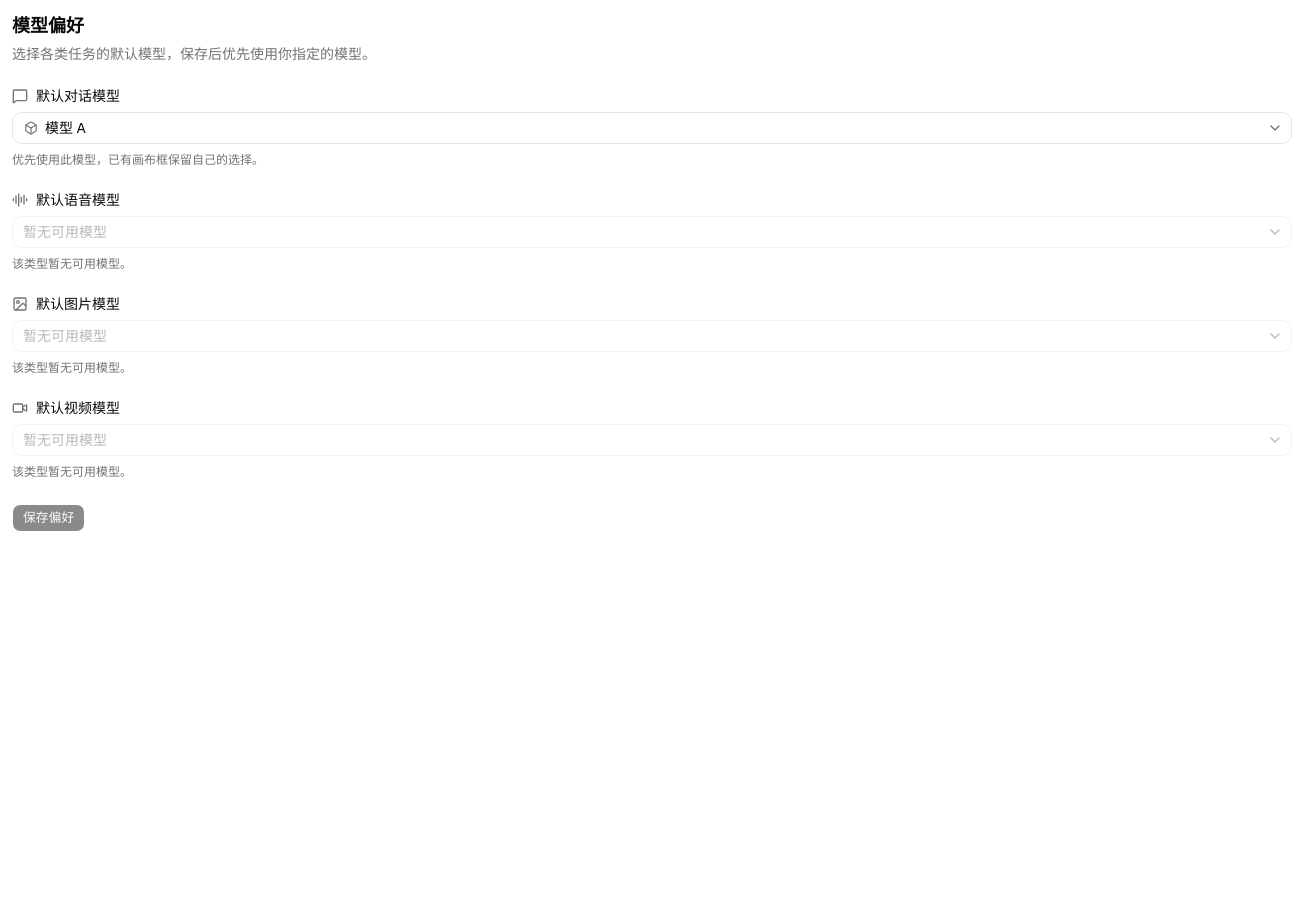
Test: keeps the agent model draft after a failed save and notifies again on retry
Click the dropdown named "默认对话模型": (65, 128) left=12, top=112, right=1292, bottom=144
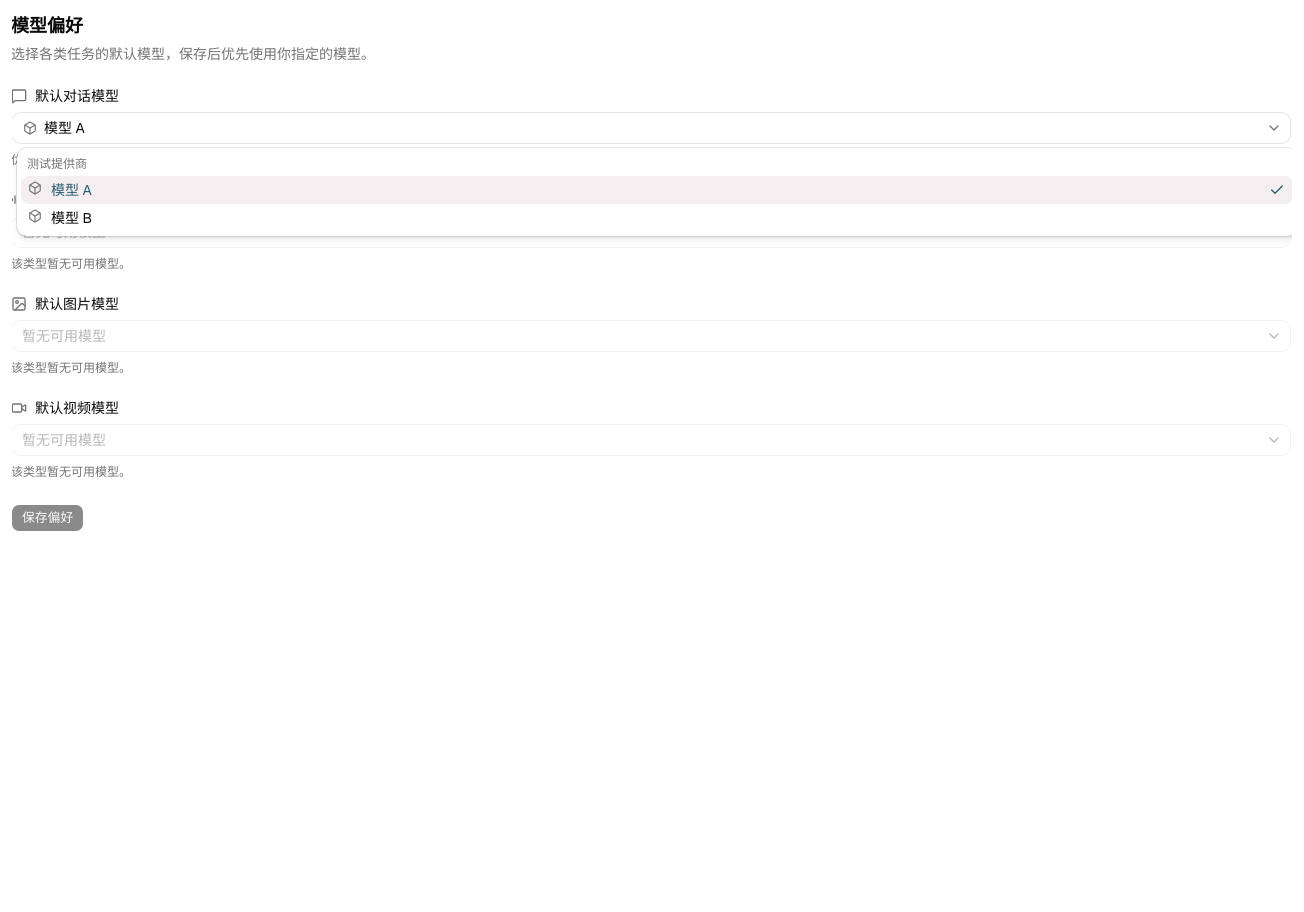
Click the option "模型 B": (60, 218) left=28, top=209, right=92, bottom=227
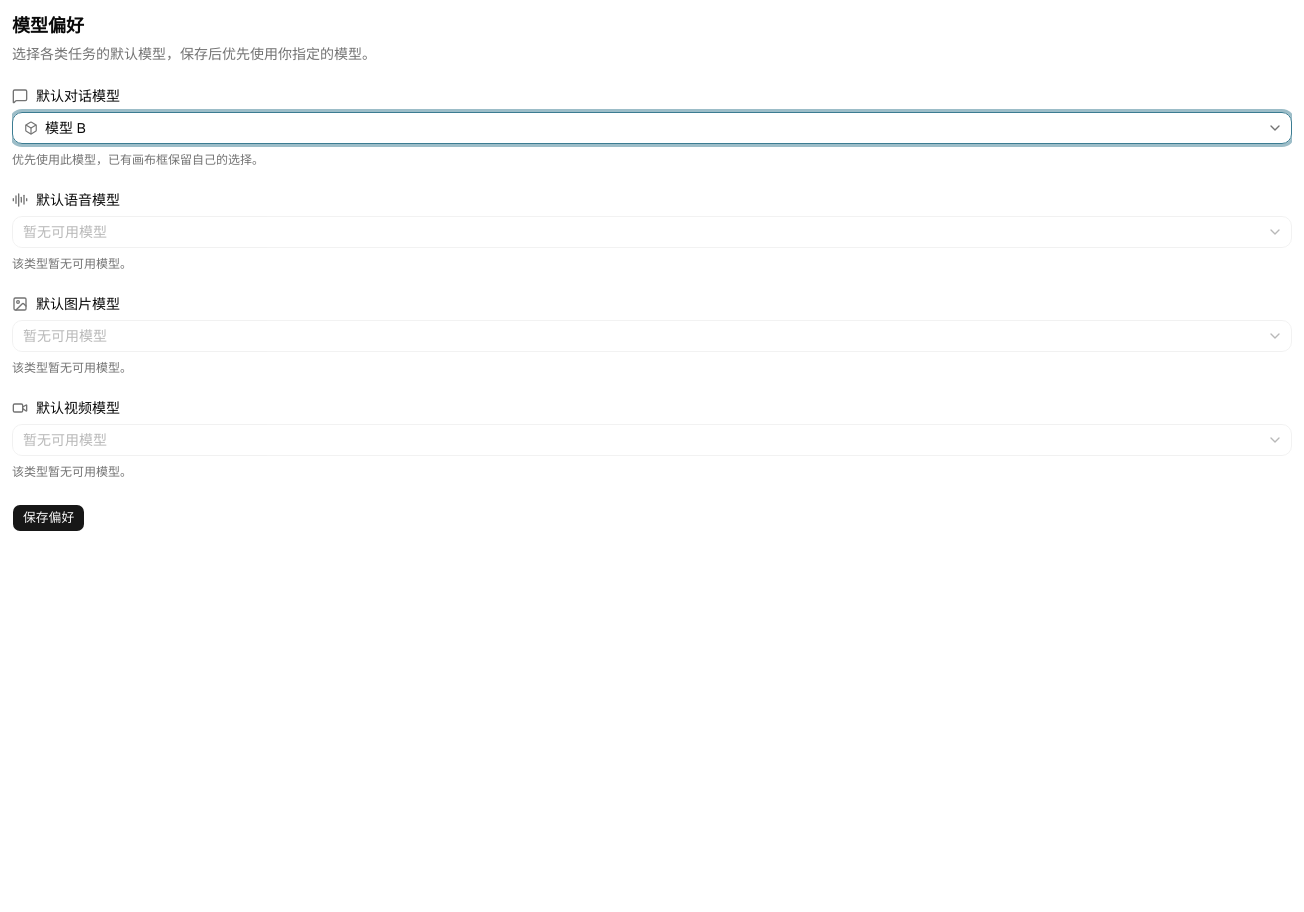
Click the button "保存偏好": (49, 518) left=12, top=504, right=85, bottom=532
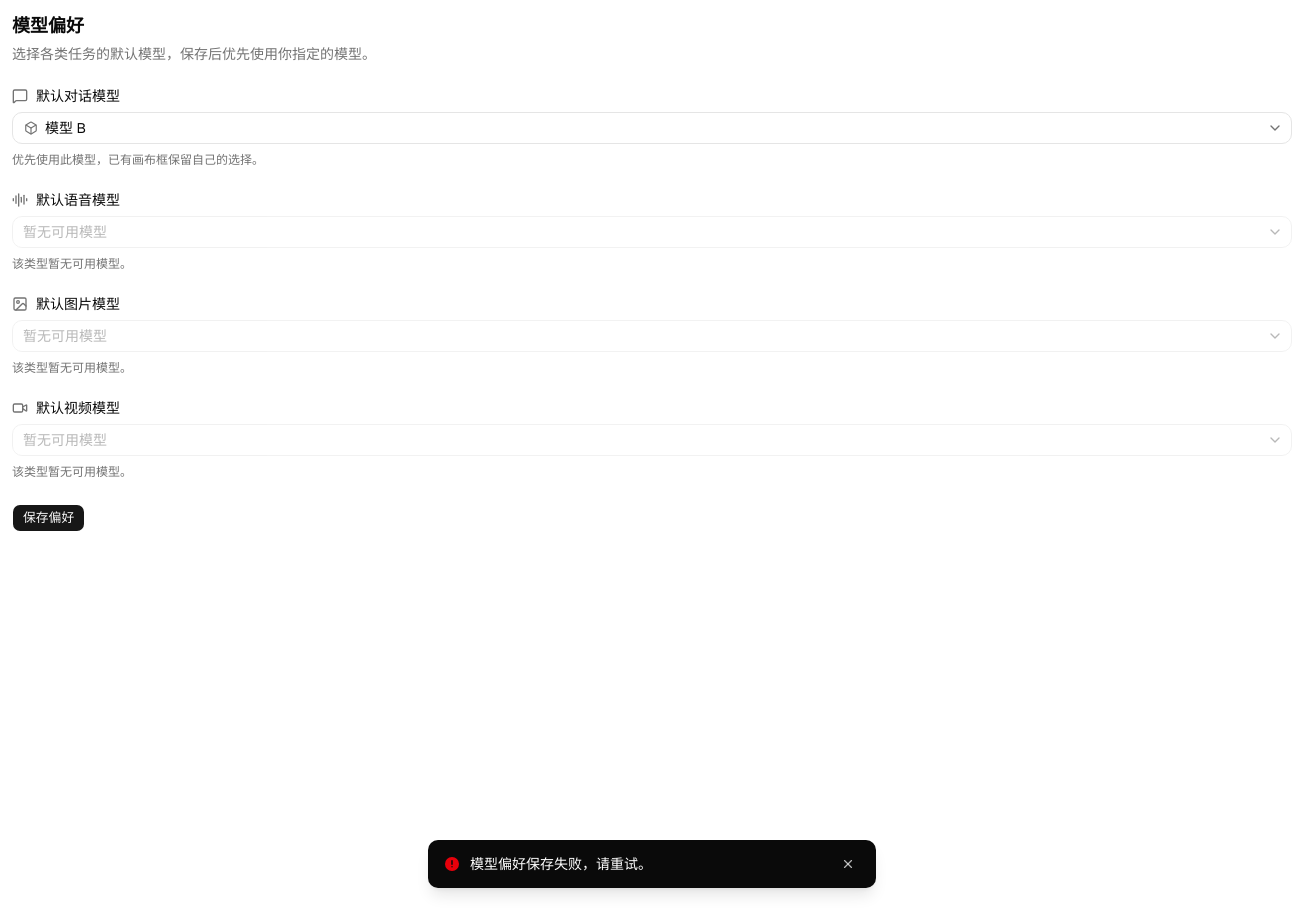
Expected: the dropdown named "默认对话模型" shows "模型 B", left=12, top=112, right=1292, bottom=144
Expected: the message shows "模型偏好保存失败", left=470, top=855, right=652, bottom=873
Click the button "保存偏好": (49, 518) left=12, top=504, right=85, bottom=532
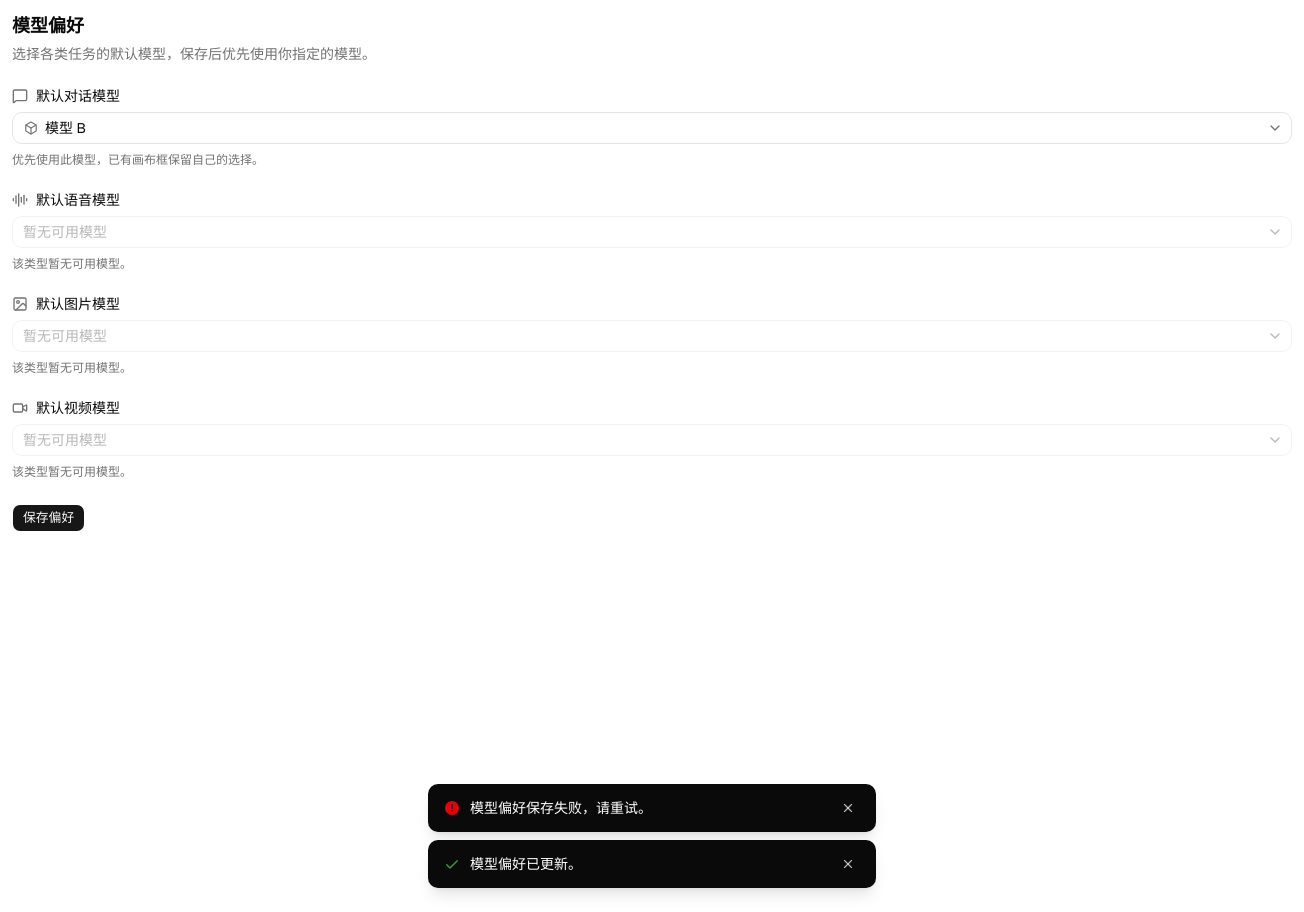
Expected: the message "模型偏好已更新。" is shown, left=428, top=840, right=876, bottom=888
